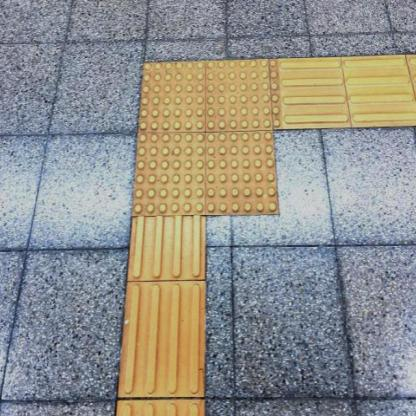podotacti: (70, 15, 355, 294), (115, 216, 207, 412), (283, 54, 416, 127)
